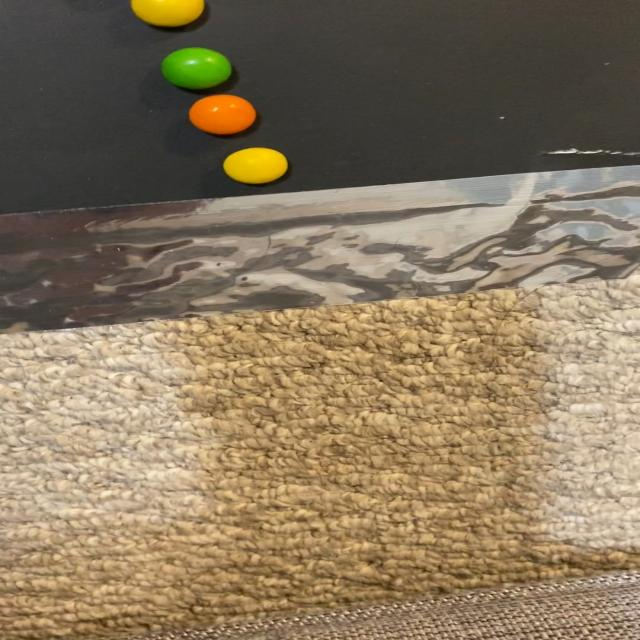smartie: (160, 47, 231, 88), (188, 94, 255, 134), (222, 147, 287, 184)
